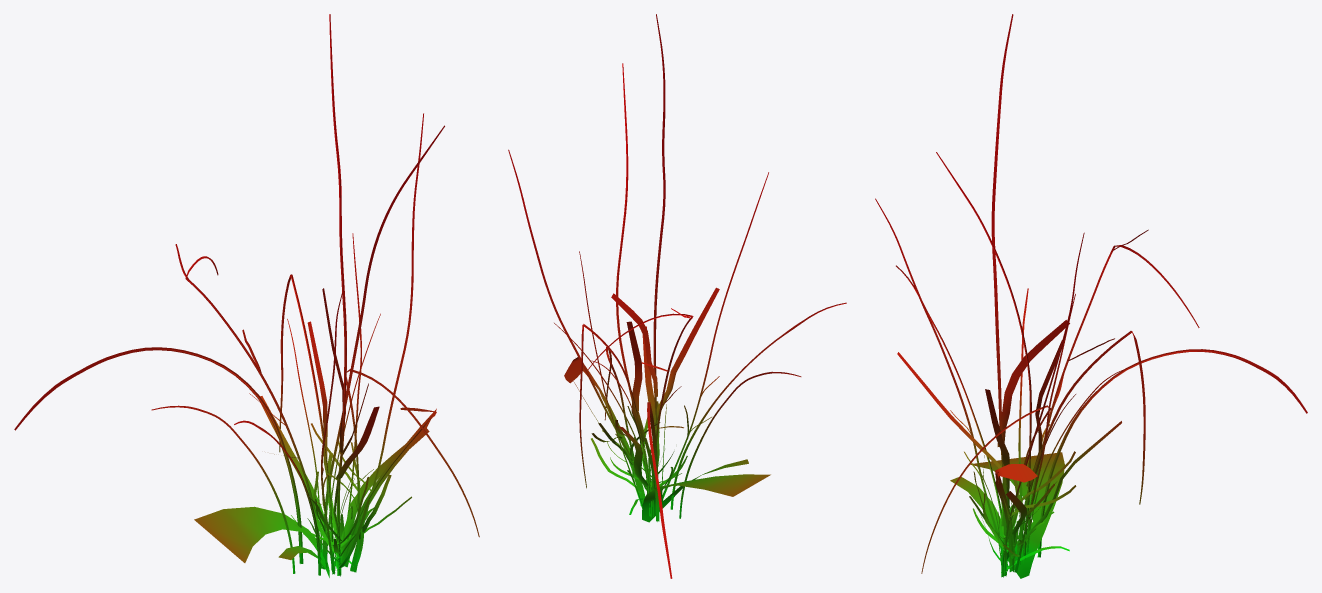
File: tcepfcfr_Var6_LOD0.fbx
3 renders of one model, left to right at view 1: azimuth 30°, elevation 25°; view 2: azimuth 150°, elevation 25°; view 3: azimuth 270°, elevation 25°, orthographic. The views are drawn at different scales.
Parts seen in each view (by area): view 1: _9905_Var6_LOD0; view 2: _9905_Var6_LOD0; view 3: _9905_Var6_LOD0.
Part boxes in pixels (box(x1,y1,x2,y2)): _9905_Var6_LOD0: box(14, 14, 479, 577); _9905_Var6_LOD0: box(508, 14, 846, 578); _9905_Var6_LOD0: box(875, 14, 1307, 578).
Bounding box in the file's own units: 24.07 × 43.51 × 30.33.
